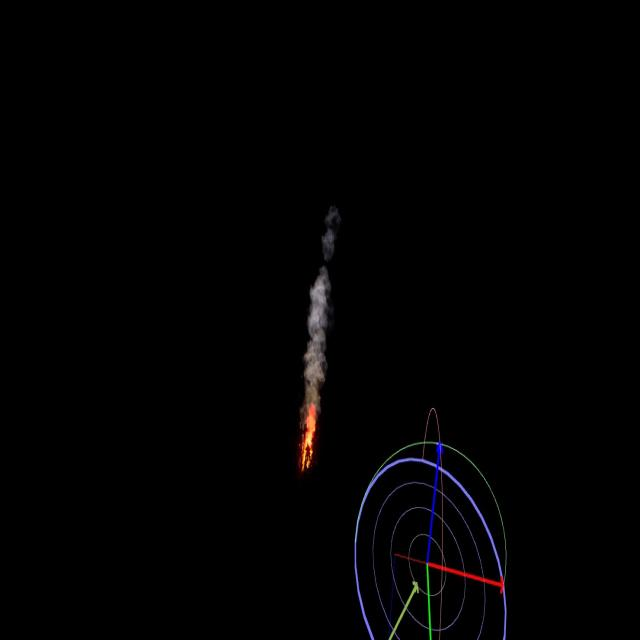fire: (301, 406, 315, 478)
smoke: (300, 203, 343, 412)
